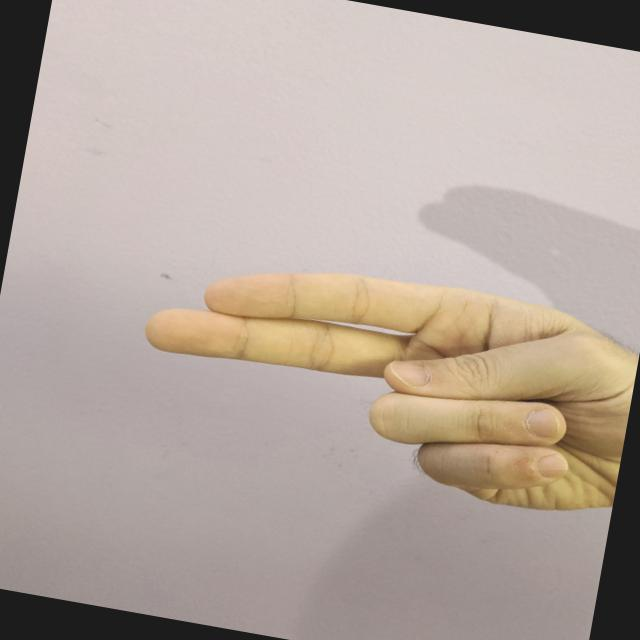H: (111, 216, 639, 537)
